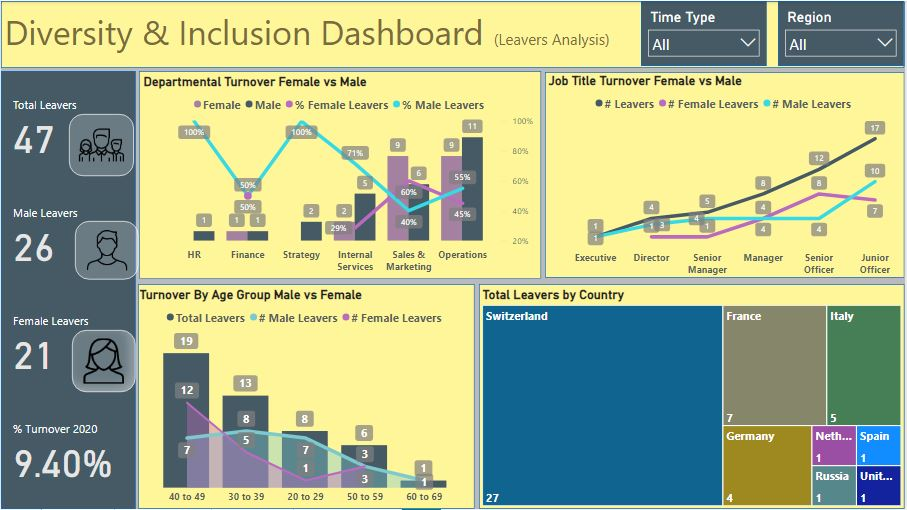

Layout of this report page (visuals, bound fields, positions):
{"tool":"powerbi","page":{"name":"Leavers","canvas":[1280,720],"ordinal":2},"visuals":[{"type":"shape","box":[1102.1,1.4,177.9,91.8],"z":0},{"type":"shape","box":[0,99,190.8,621.1],"z":1000},{"type":"shape","box":[194.4,401.5,477.1,318.6],"z":2000},{"type":"shape","box":[770.5,100.8,509.5,291.6],"z":3000},{"type":"shape","box":[195,99.3,570,294.3],"z":4000},{"type":"shape","box":[0,0,1280.2,95],"z":5000},{"type":"lineClusteredColumnComboChart","title":"Departmental Turnover Female vs Male","fields":{"Y":["All Measures.# Leavers"],"Series":["Pharma Group AG.Gender"],"Category":["Pharma Group AG.Department @01.07.2020"],"Y2":["All Measures.% Female Leavers","All Measures.% Male Leavers"]},"box":[197,103.6,568.1,289.1],"z":6000},{"type":"textbox","box":[0,0,1280,92.8],"z":7000},{"type":"shape","box":[676.9,401.5,603.1,318.6],"z":8000},{"type":"lineChart","title":"Job Title Turnover Female vs Male","fields":{"Y":["All Measures.# Leavers","All Measures.# Female Leavers","All Measures.# Male Leavers"],"Category":["Pharma Group AG.Job Level after FY20 promotions"]},"box":[770.6,102.7,509.4,294],"z":9000},{"type":"lineStackedColumnComboChart","title":"Turnover By Age Group Male vs Female","fields":{"Category":["Pharma Group AG.Age group"],"Y":["All Measures.# Leavers"],"Y2":["All Measures.# Male Leavers","All Measures.# Female Leavers"]},"box":[191.2,405.3,480.9,315.4],"z":10000},{"type":"treemap","title":"Total Leavers by Country","fields":{"Group":["Pharma Group AG.Nationality 1"],"Values":["All Measures.# Leavers"]},"box":[676.9,405.1,603.1,315],"z":11000},{"type":"cardVisual","fields":{"Data":["All Measures.# Leavers","All Measures.# Male Leavers","All Measures.# Female Leavers","All Measures.% Turnover 2020"]},"box":[0,102.9,191.4,617.4],"z":12000},{"type":"shape","box":[1101.7,0,178.3,92],"z":13000},{"type":"slicer","fields":{"Values":["Pharma Group AG.Broad region group: nationality 1"]},"box":[1101.6,5.7,178.4,87],"z":14000},{"type":"shape","box":[907.5,0,178.3,92],"z":15000},{"type":"slicer","fields":{"Values":["Pharma Group AG.Nationality 1"]},"box":[907.5,5.8,178.3,77.7],"z":16000},{"type":"image","box":[101.1,465.8,90.3,88.5],"z":17000},{"type":"image","box":[104.7,312.3,90,83],"z":18000},{"type":"image","box":[95.7,160.7,92.1,88.5],"z":19000}]}

Visuals, with their boxes in screenshot pixels (x1, y1, x2, y2), scaled from the page's 1280x720 canvas onto the 907x510 screenshot:
shape: left=781, top=1, right=906, bottom=66
shape: left=0, top=70, right=135, bottom=509
shape: left=138, top=284, right=476, bottom=509
shape: left=546, top=71, right=906, bottom=278
shape: left=138, top=70, right=542, bottom=279
shape: left=0, top=0, right=906, bottom=67
"Departmental Turnover Female vs Male" lineClusteredColumnComboChart: left=140, top=73, right=542, bottom=278
textbox: left=0, top=0, right=906, bottom=66
shape: left=480, top=284, right=906, bottom=509
"Job Title Turnover Female vs Male" lineChart: left=546, top=73, right=906, bottom=281
"Turnover By Age Group Male vs Female" lineStackedColumnComboChart: left=135, top=287, right=476, bottom=509
"Total Leavers by Country" treemap: left=480, top=287, right=906, bottom=509
cardVisual - All Measures.# Leavers x All Measures.# Male Leavers: left=0, top=73, right=136, bottom=509
shape: left=781, top=0, right=906, bottom=65
slicer - Pharma Group AG.Broad region group: nationality 1: left=781, top=4, right=906, bottom=66
shape: left=643, top=0, right=769, bottom=65
slicer - Pharma Group AG.Nationality 1: left=643, top=4, right=769, bottom=59
image: left=72, top=330, right=136, bottom=393
image: left=74, top=221, right=138, bottom=280
image: left=68, top=114, right=133, bottom=177
